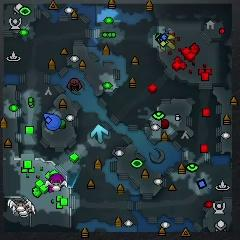p1: (43, 113, 61, 130)
p3: (49, 173, 64, 191)
x2: (161, 34, 175, 51)
x3: (91, 124, 108, 142)
